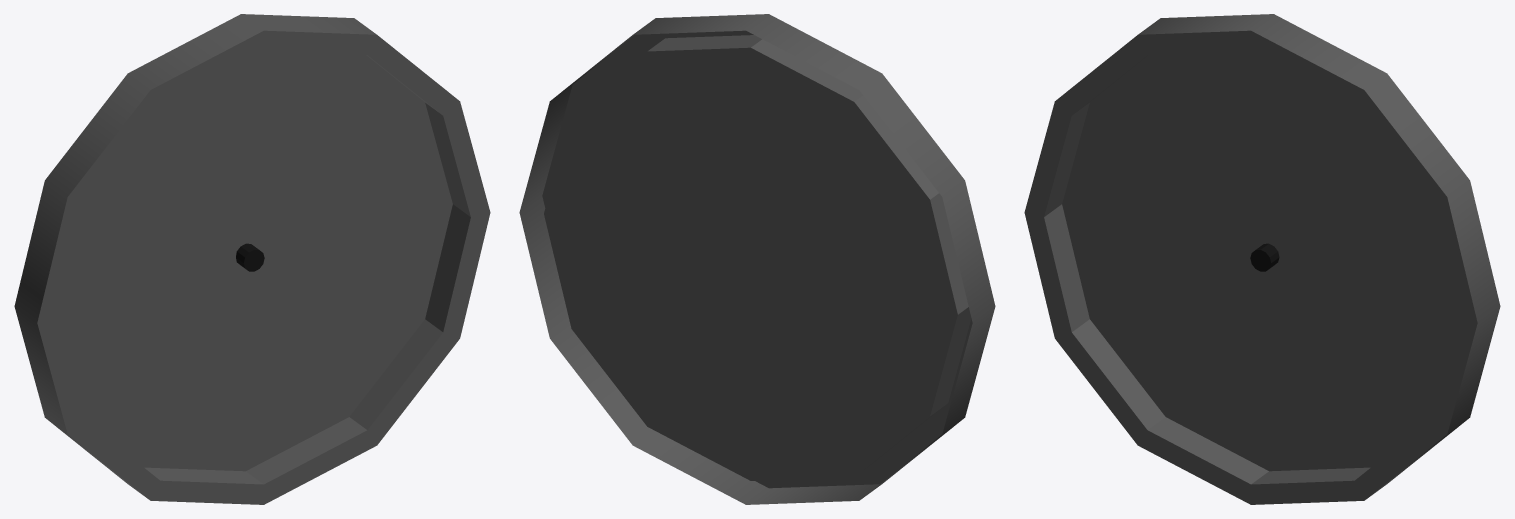
File: Itr_Obj_Grandfatherclock2_Frame_04.FBX
The picture shows the model from 3 angles, left to right: view 1: azimuth 30°, elevation 25°; view 2: azimuth 150°, elevation 25°; view 3: azimuth 330°, elevation 25°; orthographic projection.
Visible parts, largest first — view 1: Itr_Obj_Grandfatherclock2_Frame_04; view 2: Itr_Obj_Grandfatherclock2_Frame_04; view 3: Itr_Obj_Grandfatherclock2_Frame_04.
Boxes of the visible parts, x1,y1,x2,y2 form: Itr_Obj_Grandfatherclock2_Frame_04: (14, 14, 490, 504); Itr_Obj_Grandfatherclock2_Frame_04: (519, 14, 995, 504); Itr_Obj_Grandfatherclock2_Frame_04: (1024, 14, 1500, 504).
Bounding box in the file's own units: 12.23 × 12.23 × 1.07.
